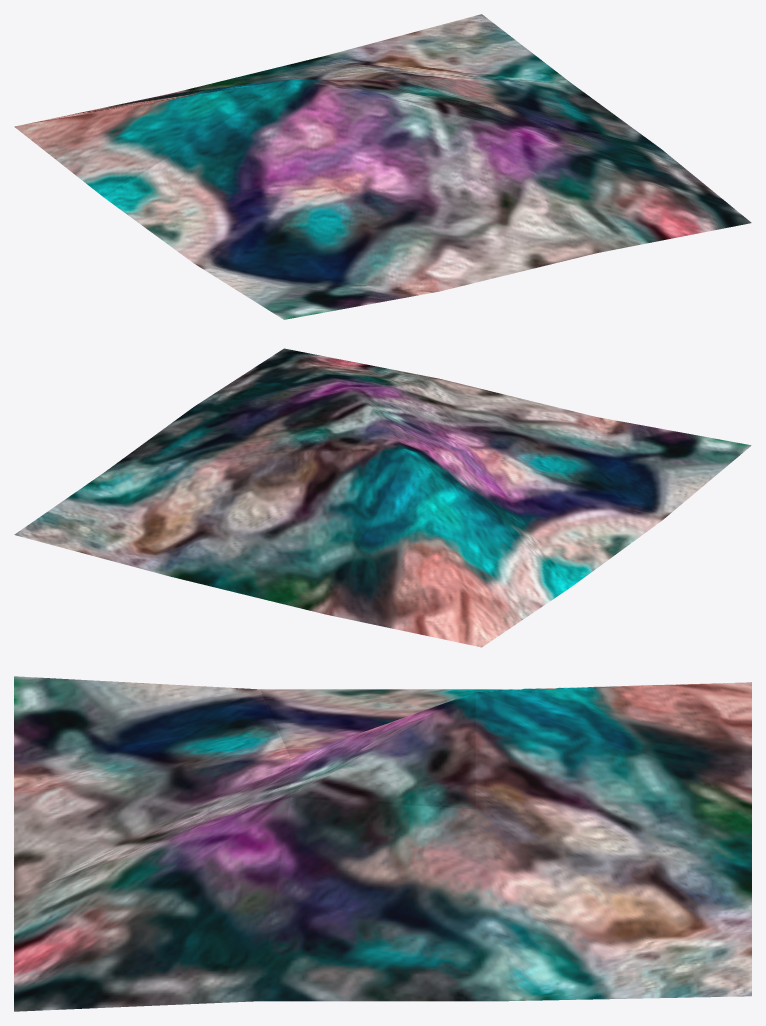
Rendered from Trash_Can_01_Trash.fbx.
3 views of the same model, one above another, from view 1: azimuth 30°, elevation 25°; view 2: azimuth 150°, elevation 25°; view 3: azimuth 270°, elevation 25° (orthographic). The views are drawn at different scales.
Visible parts, largest first — view 1: Trash_Can_01_Trash; view 2: Trash_Can_01_Trash; view 3: Trash_Can_01_Trash.
Boxes of the visible parts, bbox=[...] form: Trash_Can_01_Trash: bbox=[14, 14, 751, 319]; Trash_Can_01_Trash: bbox=[14, 348, 751, 647]; Trash_Can_01_Trash: bbox=[14, 676, 751, 1011].
Size of the model in its own units: 50.9 by 9.47 by 50.9.
